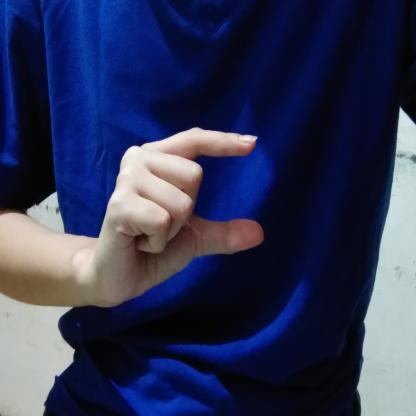small: (88, 121, 276, 313)
